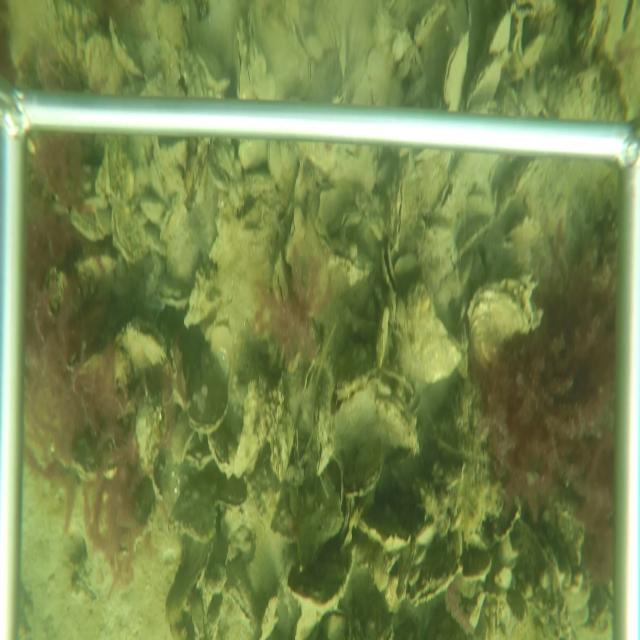Oyster-Closed: (395, 278, 463, 390), (468, 282, 540, 370), (496, 159, 546, 221), (115, 316, 167, 371), (440, 27, 472, 112), (107, 11, 146, 77), (387, 156, 410, 254), (464, 56, 504, 112), (108, 208, 145, 265), (234, 12, 247, 97), (206, 432, 231, 470), (273, 250, 290, 302), (102, 135, 116, 197), (377, 307, 391, 367), (266, 140, 283, 183), (245, 61, 254, 93)
Oyster-Indeterminate: (168, 465, 248, 544), (485, 13, 511, 52)
Oyster-Open: (404, 556, 463, 608), (433, 179, 460, 219), (382, 246, 398, 295)
